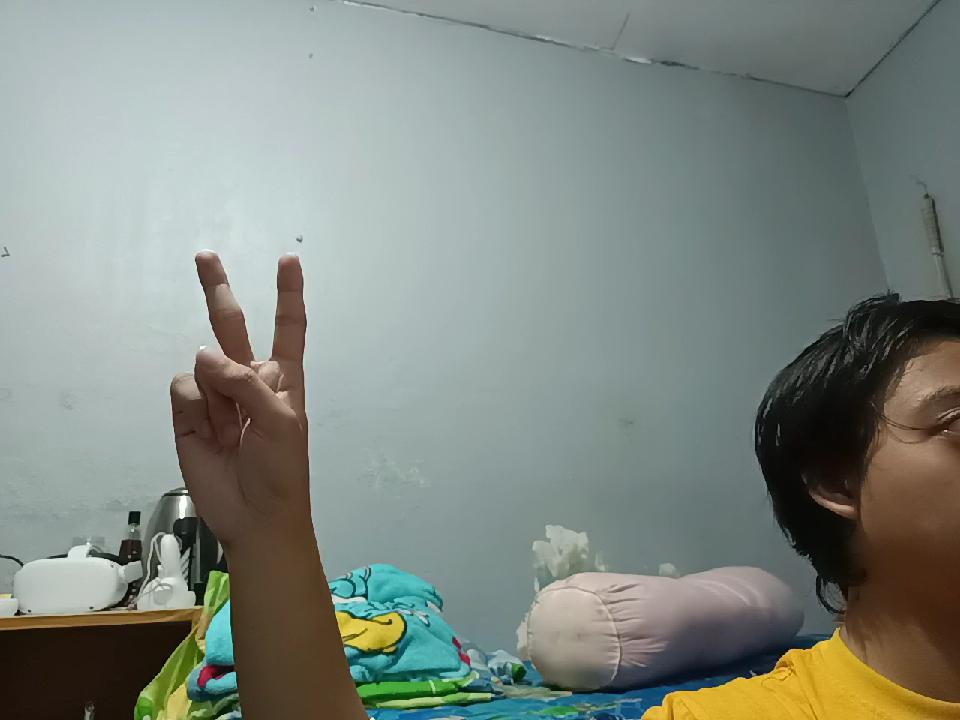scissors: (160, 222, 332, 530)
